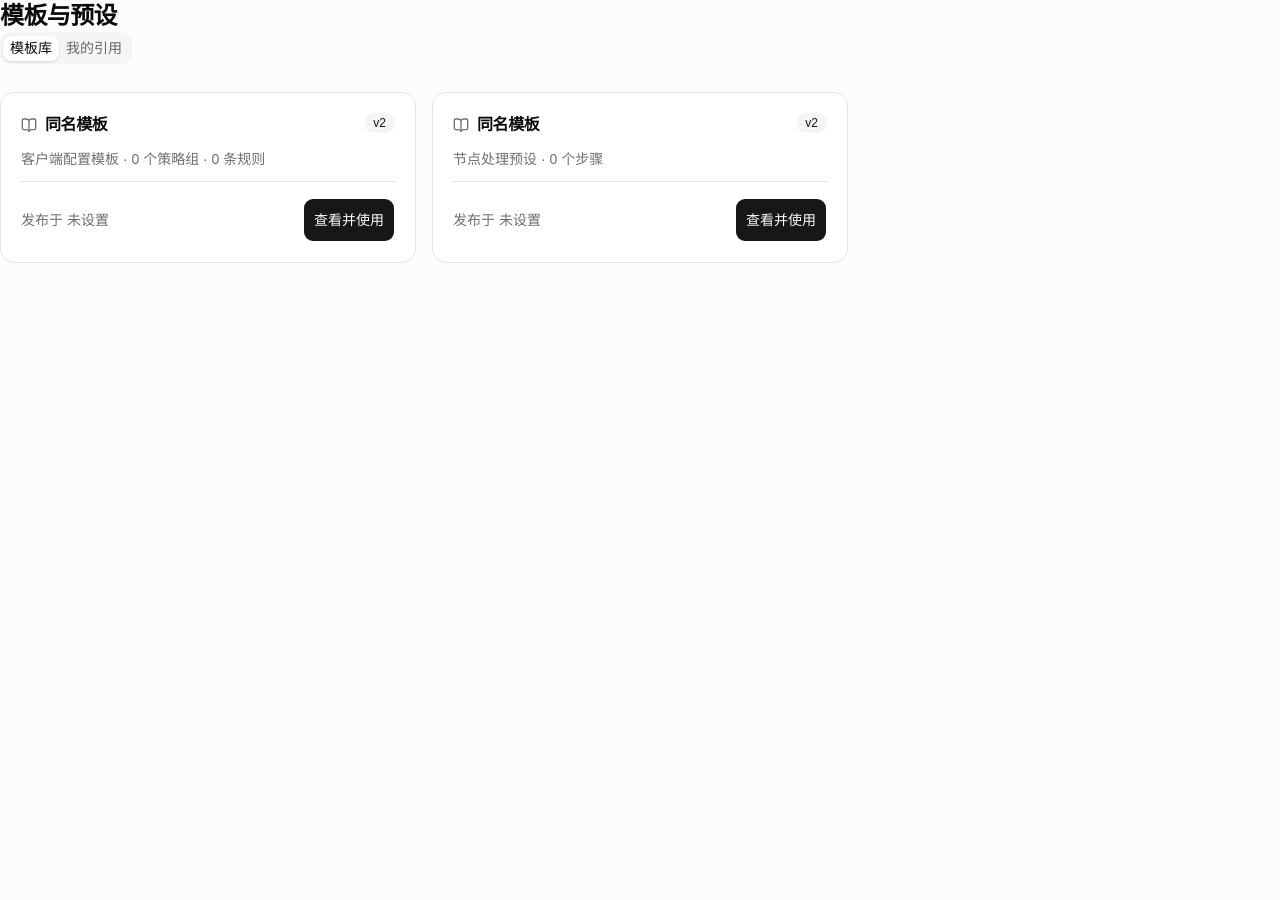
Test: keeps collections/follow row identity through dismissal, review and explicit apply
Click the tab "我的引用". click: (94, 48)
box: [59,36,129,60]
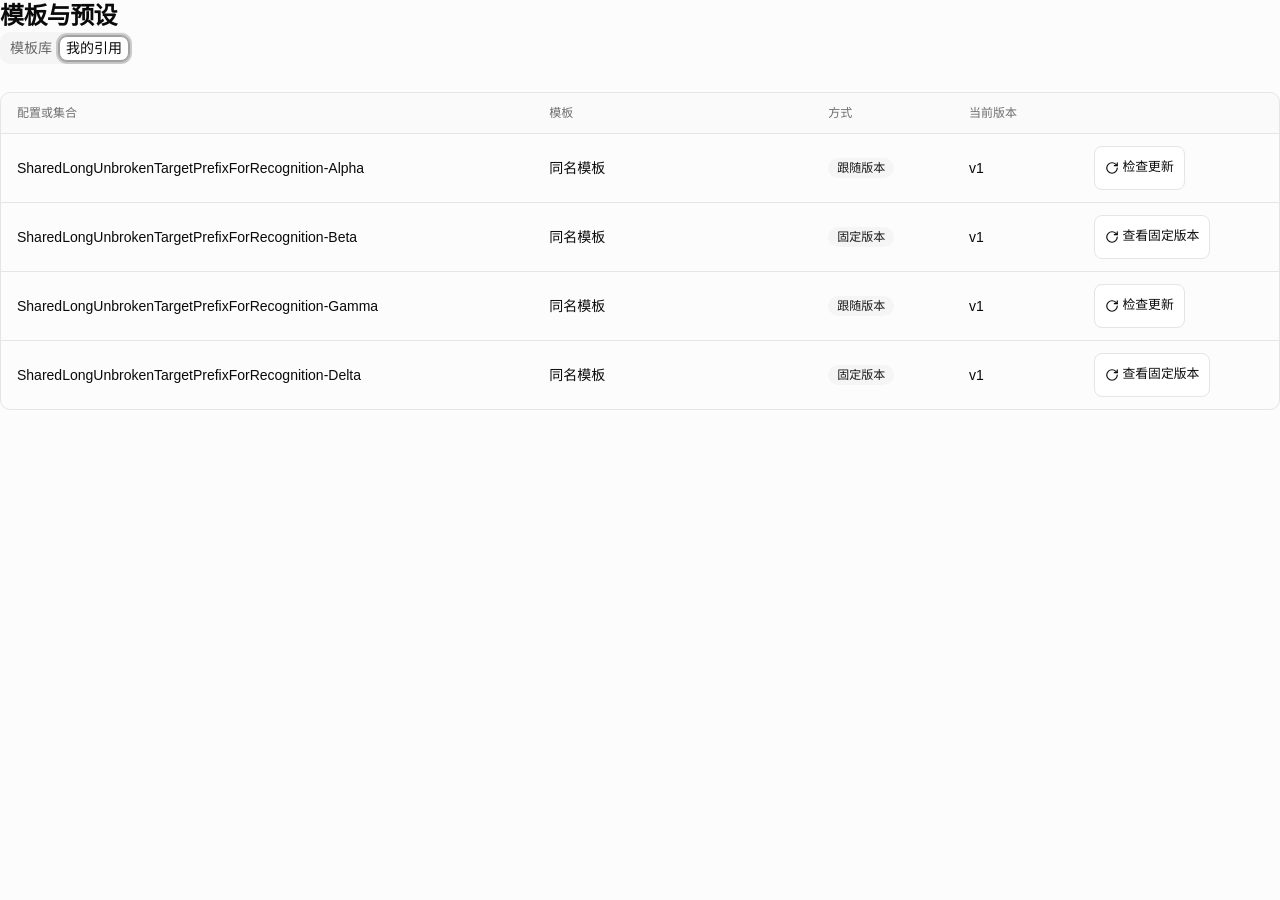
Click the 2nd button "查看固定版本". click: (1152, 374)
box: [1094,352,1210,396]
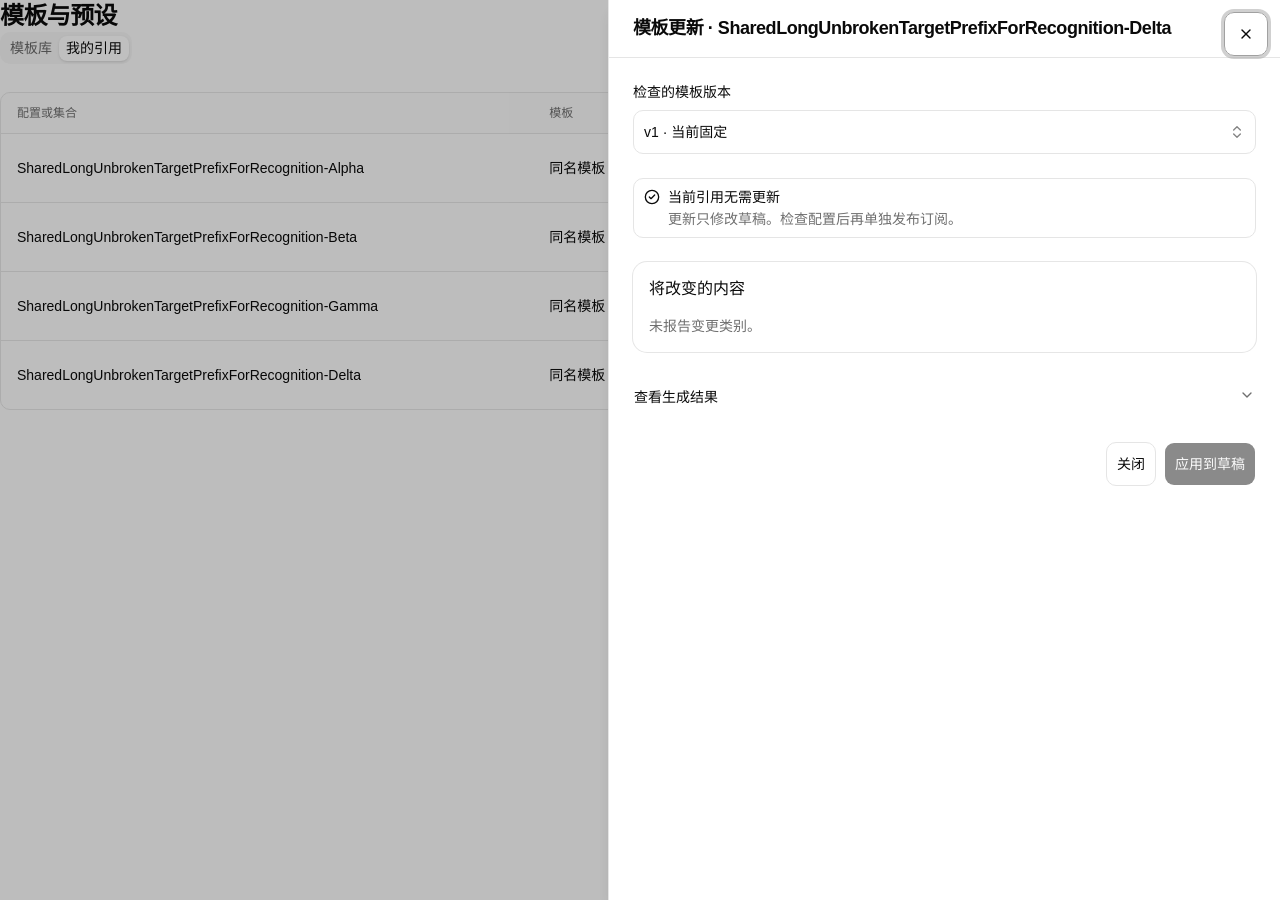
Expected: the text "当前引用无需更新" is shown, [668,189,780,205]
Click the button "关闭". click: (1131, 464)
box: [1106,442,1156,486]
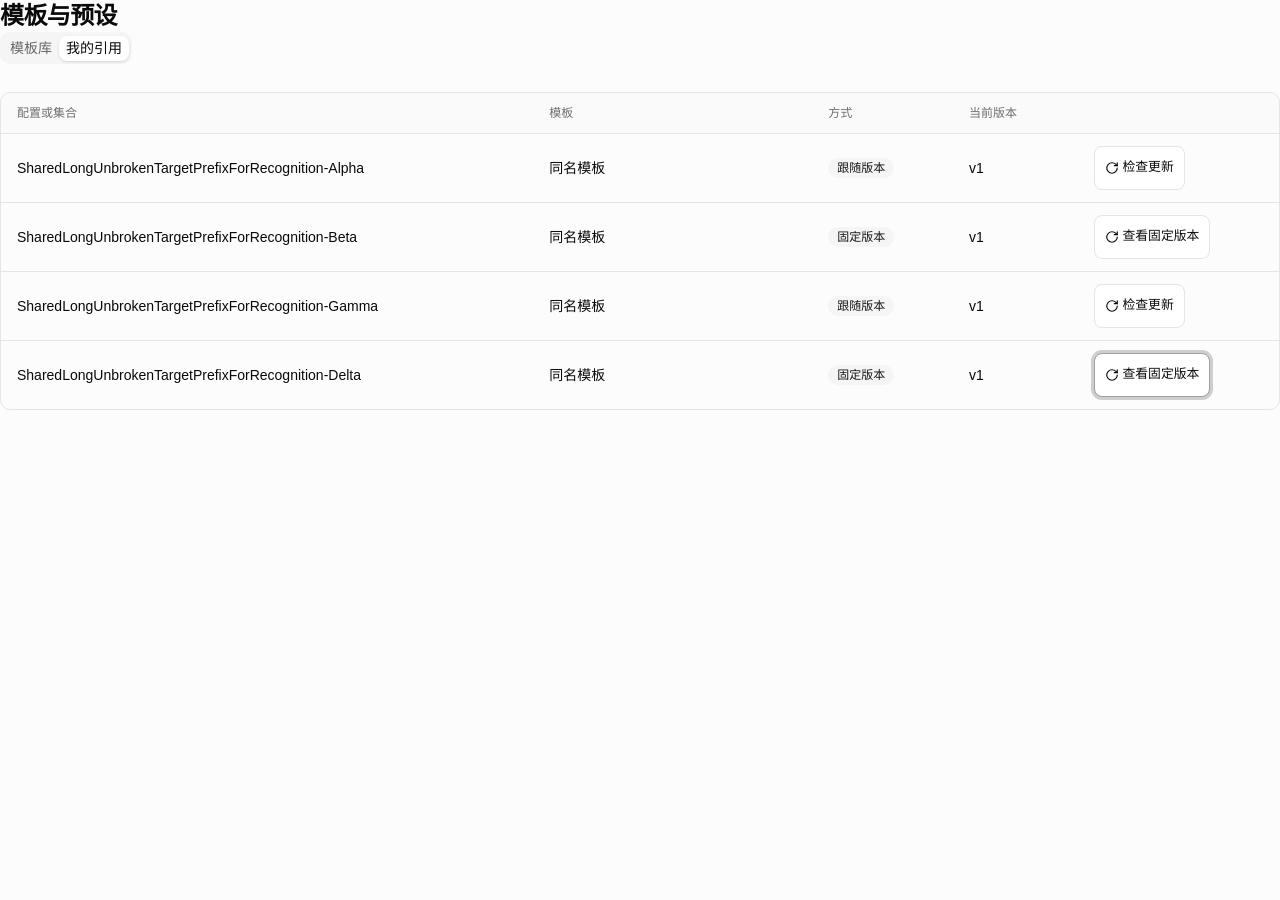
Expected: the dialog is gone
Click the 2nd button "检查更新". click: (1139, 306)
box: [1094,284,1185,328]
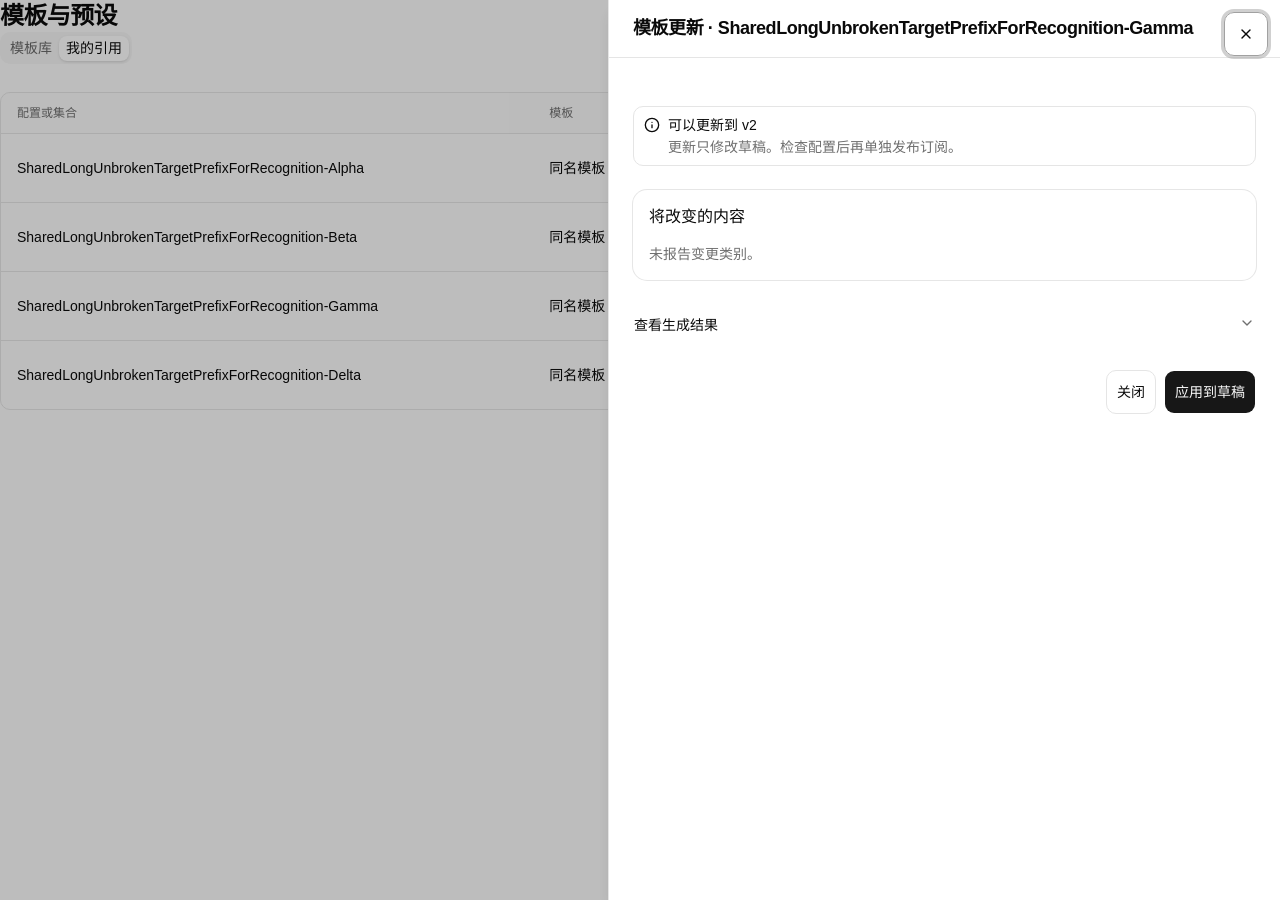
Expected: the text "可以更新到 v2" is shown, [668,117,757,133]
Click the button "应用到草稿". click: (1210, 392)
box: [1164,370,1256,414]
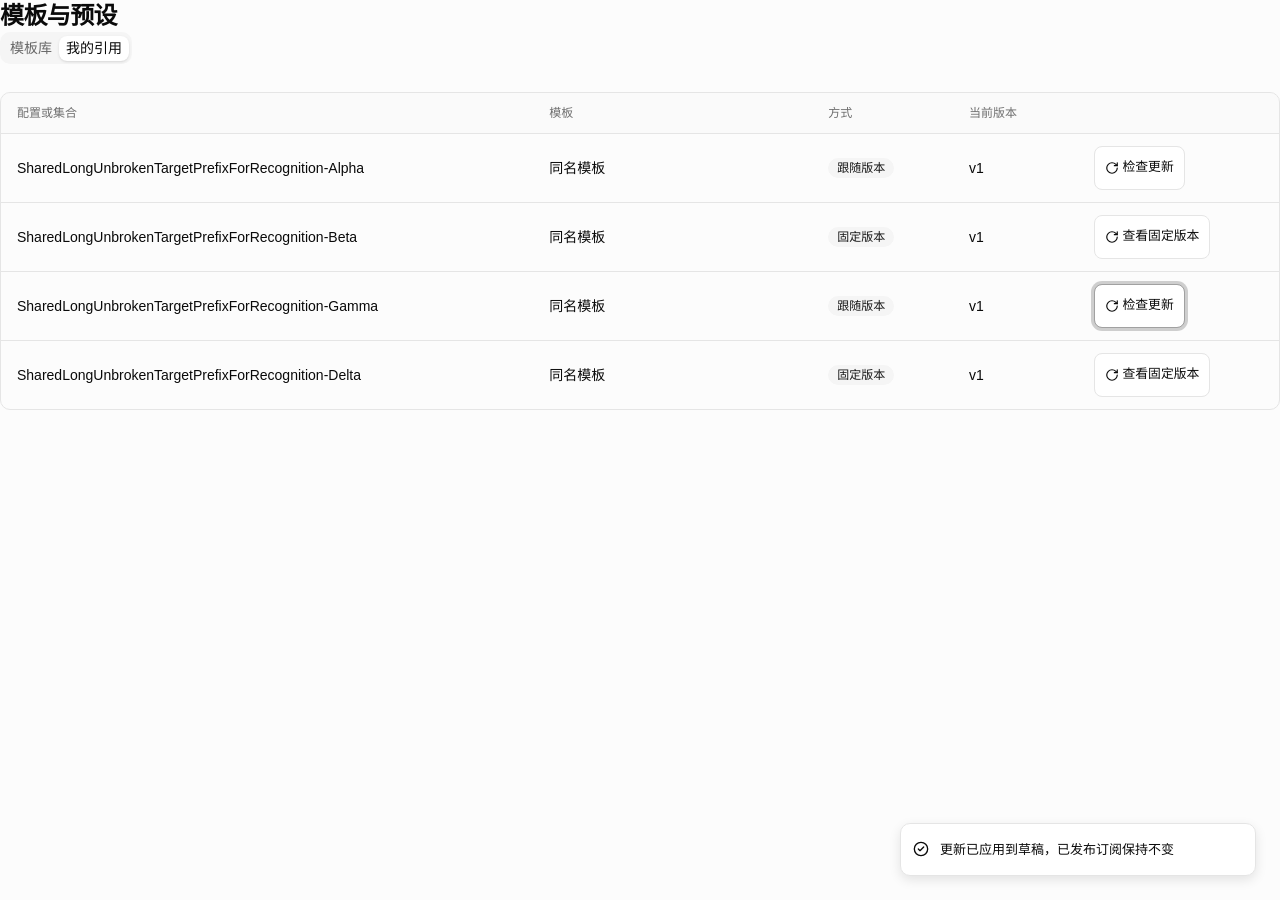
Expected: the dialog is gone
